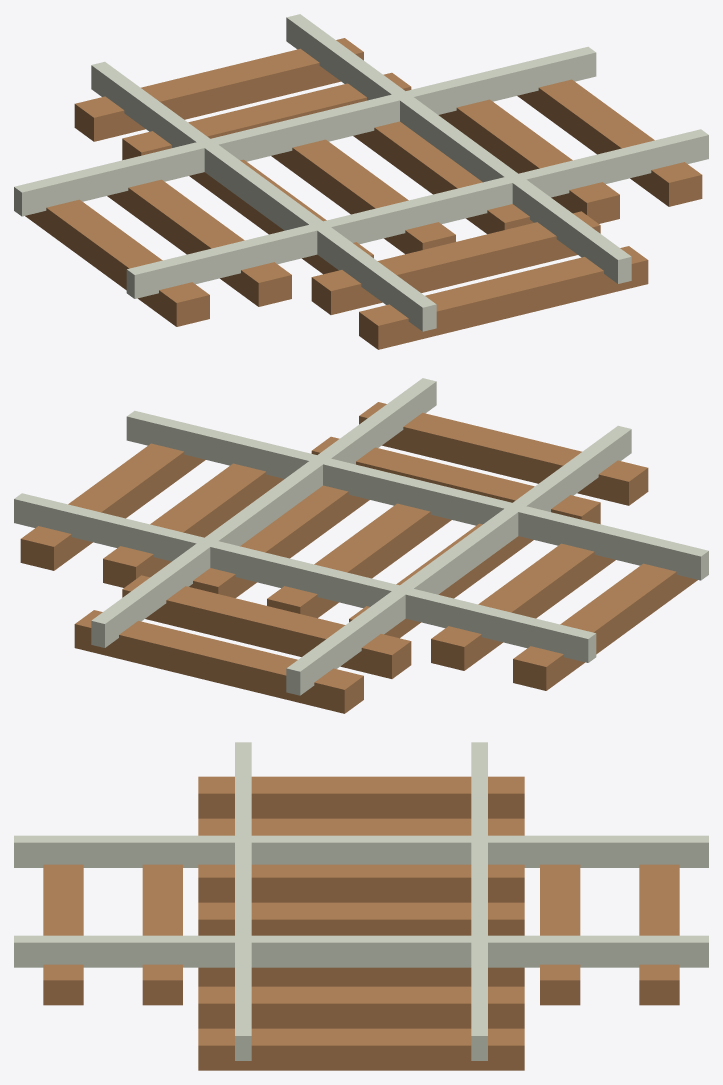
Rendered from rail-cross.glb.
The picture shows the model from 3 angles, top to bottom: view 1: azimuth 30°, elevation 25°; view 2: azimuth 150°, elevation 25°; view 3: azimuth 270°, elevation 25°; orthographic projection. The views are drawn at different scales.
Parts seen in each view (by area): view 1: Mesh_rail-cross_wood, Connected steel rails; view 2: Mesh_rail-cross_wood, Connected steel rails; view 3: Mesh_rail-cross_wood, Connected steel rails.
Part boxes in pixels (x1,y1,x2,y2): Mesh_rail-cross_wood: [25, 38, 702, 349]; Connected steel rails: [14, 14, 708, 331]; Mesh_rail-cross_wood: [20, 402, 697, 713]; Connected steel rails: [14, 378, 708, 695]; Mesh_rail-cross_wood: [43, 776, 679, 1070]; Connected steel rails: [14, 742, 708, 1060].
Bounding box in the file's own units: 1 × 0.075 × 1.
